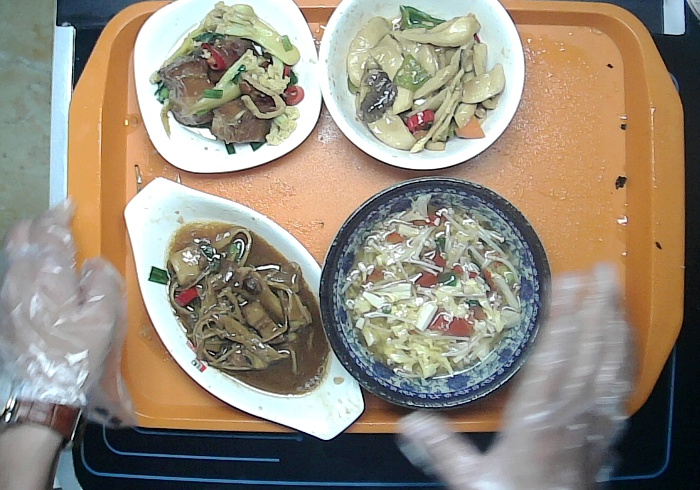ZNLD-Qing_Hua_Wan: (316, 168, 553, 420)
ZNLD-Si_Fang_Wan: (126, 1, 335, 182)
ZNLD-Tang_Wan: (310, 1, 536, 176)
ZNLD-Yu_Pan: (116, 169, 367, 445)
